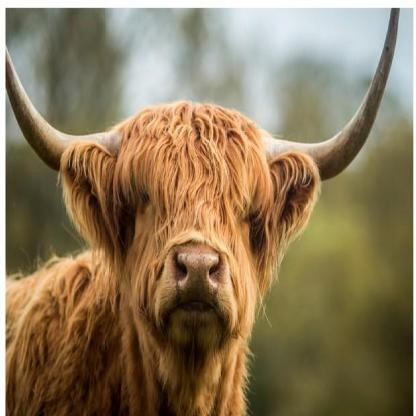cow: (6, 105, 320, 416)
